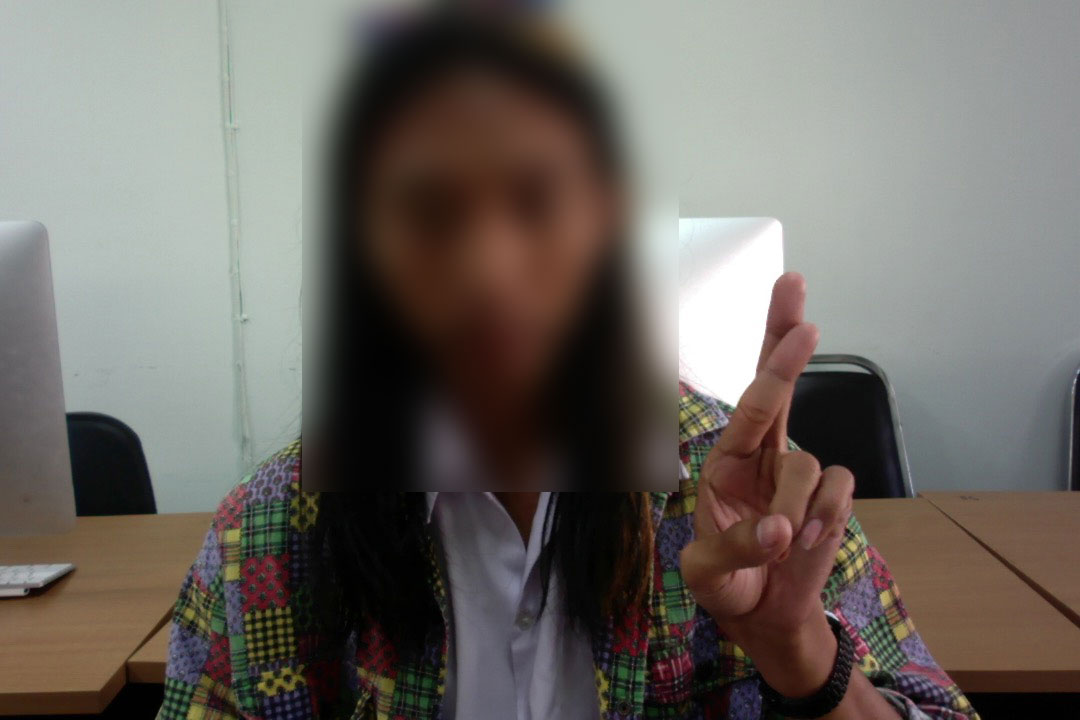rao: (657, 264, 863, 637)
